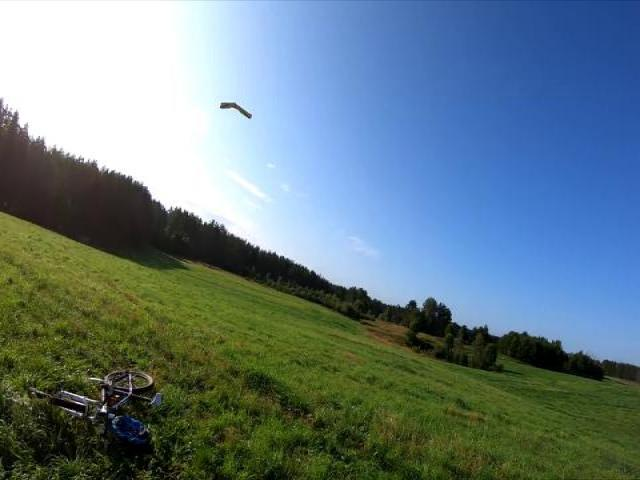flying wing: (218, 100, 253, 120)
